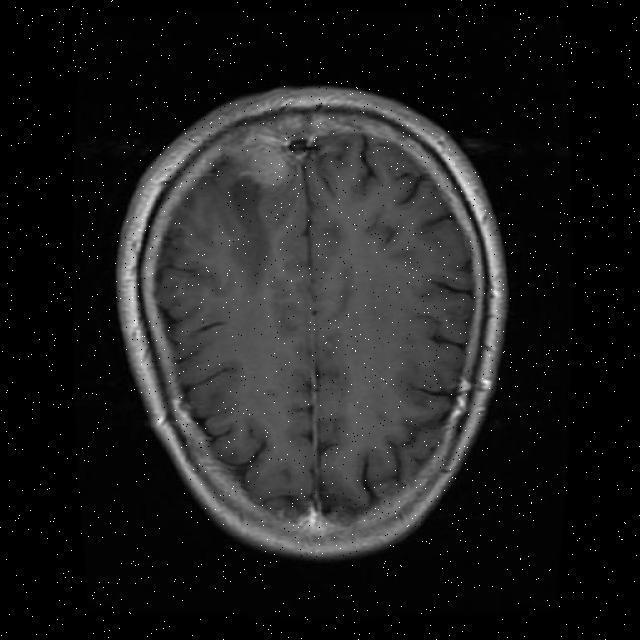Meningioma: (222, 128, 314, 187)
